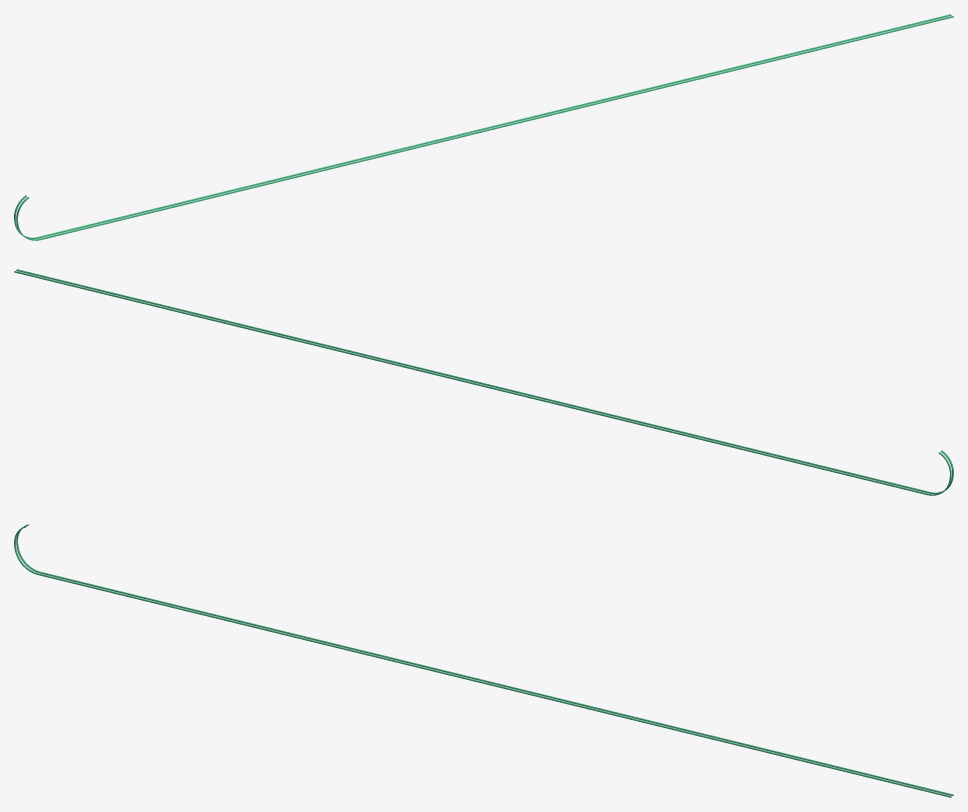
Rendered from gm_rail_01.dae.
The picture shows the model from 3 angles, top to bottom: view 1: azimuth 30°, elevation 25°; view 2: azimuth 150°, elevation 25°; view 3: azimuth 330°, elevation 25°; orthographic projection.
Visible parts, largest first — view 1: Colmesh-1; view 2: Colmesh-1; view 3: Colmesh-1.
Boxes of the visible parts, x1=… form: Colmesh-1: x1=14, y1=14, x2=953, y2=240; Colmesh-1: x1=14, y1=269, x2=953, y2=495; Colmesh-1: x1=14, y1=524, x2=953, y2=797.
Size of the model in its own units: 413 by 2.4 by 19.22.
